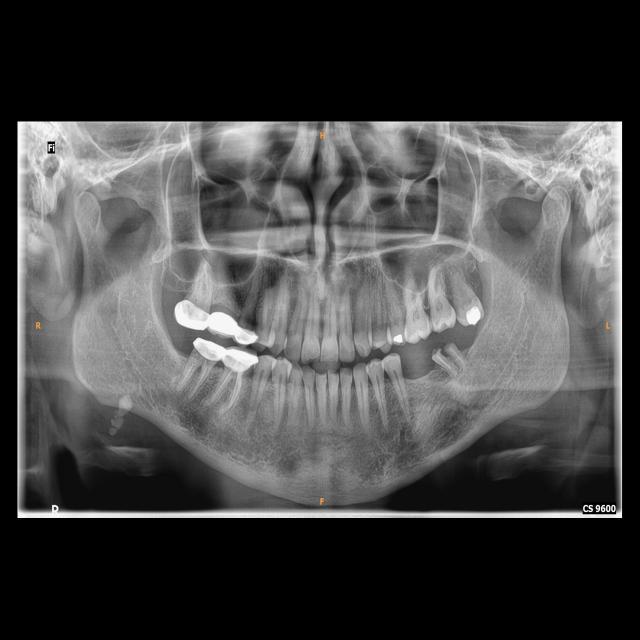dolgu: (460, 306, 484, 325), (388, 330, 405, 347)
kanal-tedavisi: (216, 370, 244, 404), (188, 360, 210, 390)
kaplama: (175, 302, 210, 330), (190, 336, 224, 362), (225, 347, 256, 371), (235, 327, 257, 346)
kirik: (430, 339, 457, 364)
kopru: (207, 306, 241, 338)
